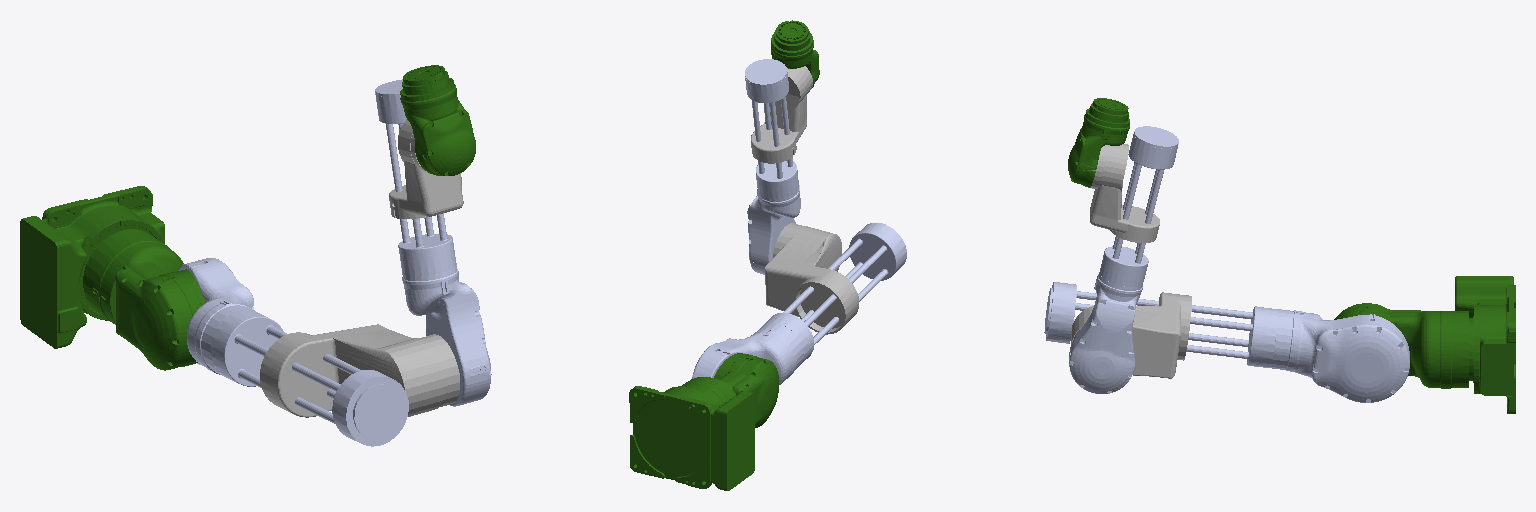
URDF robot description (robot_siad7n.SLDASM):
<?xml version="1.0" encoding="utf-8"?>
<!-- This URDF was automatically created by SolidWorks to URDF Exporter! Originally created by [author] ([email redacted]) 
     Commit Version: 1.6.0-1-g15f4949  Build Version: 1.6.7594.29634
     For more information, please see http://wiki.ros.org/sw_urdf_exporter -->
<robot
  name="robot_siad7n.SLDASM">
  <link
    name="base_link">
    <inertial>
      <origin
        xyz="-0.0532705876571574 -0.0767974979156272 -0.000142781208650451"
        rpy="0 0 0" />
      <mass
        value="9.56045935310843" />
      <inertia
        ixx="0.0622135700609236"
        ixy="-0.0105783354821859"
        ixz="-0.000141321537993399"
        iyy="0.136512878662147"
        iyz="-7.32310879539787E-05"
        izz="0.106984452980825" />
    </inertial>
    <visual>
      <origin
        xyz="0 0 0"
        rpy="0 0 0" />
      <geometry>
        <mesh
          filename="package://robot_siad7n.SLDASM/meshes/base_link.STL" />
      </geometry>
      <material
        name="">
        <color
          rgba="0.23921568627451 0.474509803921569 0.133333333333333 1" />
      </material>
    </visual>
    <collision>
      <origin
        xyz="0 0 0"
        rpy="0 0 0" />
      <geometry>
        <mesh
          filename="package://robot_siad7n.SLDASM/meshes/base_link.STL" />
      </geometry>
    </collision>
  </link>
  <link
    name="link_1">
    <inertial>
      <origin
        xyz="1.00339689311431E-06 0.189106618590632 -0.0156119228423456"
        rpy="0 0 0" />
      <mass
        value="11.7569497238069" />
      <inertia
        ixx="0.183154145362816"
        ixy="-1.40444592144142E-06"
        ixz="5.87212003021285E-07"
        iyy="0.0617033487068192"
        iyz="0.0136703017101072"
        izz="0.186679492606411" />
    </inertial>
    <visual>
      <origin
        xyz="0 0 0"
        rpy="0 0 0" />
      <geometry>
        <mesh
          filename="package://robot_siad7n.SLDASM/meshes/link_1.STL" />
      </geometry>
      <material
        name="">
        <color
          rgba="0.23921568627451 0.474509803921569 0.133333333333333 1" />
      </material>
    </visual>
    <collision>
      <origin
        xyz="0 0 0"
        rpy="0 0 0" />
      <geometry>
        <mesh
          filename="package://robot_siad7n.SLDASM/meshes/link_1.STL" />
      </geometry>
    </collision>
  </link>
  <joint
    name="joint_1"
    type="revolute">
    <origin
      xyz="0 -0.1265 0"
      rpy="0 -1.55961247963961 3.14159265358979" />
    <parent
      link="base_link" />
    <child
      link="link_1" />
    <axis
      xyz="0 1 0" />
    <limit
      lower="-3.14"
      upper="3.14"
      effort="10"
      velocity="100" />
  </joint>
  <link
    name="link_2">
    <inertial>
      <origin
        xyz="1.05015833037764E-05 0.272681758184058 0.0295584106615145"
        rpy="0 0 0" />
      <mass
        value="10.055392529235" />
      <inertia
        ixx="0.338020283341965"
        ixy="-1.29862360447246E-05"
        ixz="2.90379787297602E-06"
        iyy="0.0467294326094914"
        iyz="0.0229500781656004"
        izz="0.339754126520426" />
    </inertial>
    <visual>
      <origin
        xyz="0 0 0"
        rpy="0 0 0" />
      <geometry>
        <mesh
          filename="package://robot_siad7n.SLDASM/meshes/link_2.STL" />
      </geometry>
      <material
        name="">
        <color
          rgba="0.792156862745098 0.819607843137255 0.933333333333333 1" />
      </material>
    </visual>
    <collision>
      <origin
        xyz="0 0 0"
        rpy="0 0 0" />
      <geometry>
        <mesh
          filename="package://robot_siad7n.SLDASM/meshes/link_2.STL" />
      </geometry>
    </collision>
  </link>
  <joint
    name="joint_2"
    type="revolute">
    <origin
      xyz="0 0.298 0"
      rpy="0 0 -0.132981041403309" />
    <parent
      link="link_1" />
    <child
      link="link_2" />
    <axis
      xyz="0 0 1" />
    <limit
      lower="-1.57"
      upper="1.57"
      effort="0"
      velocity="0" />
  </joint>
  <link
    name="link_3">
    <inertial>
      <origin
        xyz="-0.120604561469353 0.178610106906279 0.0405760223491559"
        rpy="0 0 0" />
      <mass
        value="8.43890943742212" />
      <inertia
        ixx="0.117451143264787"
        ixy="-1.1110922731386E-06"
        ixz="4.99538724013843E-06"
        iyy="0.0700119155289213"
        iyz="0.0360892228503589"
        izz="0.0817537348047177" />
    </inertial>
    <visual>
      <origin
        xyz="0 0 0"
        rpy="0 0 0" />
      <geometry>
        <mesh
          filename="package://robot_siad7n.SLDASM/meshes/link_3.STL" />
      </geometry>
      <material
        name="">
        <color
          rgba="0.749019607843137 0.749019607843137 0.749019607843137 1" />
      </material>
    </visual>
    <collision>
      <origin
        xyz="0 0 0"
        rpy="0 0 0" />
      <geometry>
        <mesh
          filename="package://robot_siad7n.SLDASM/meshes/link_3.STL" />
      </geometry>
    </collision>
  </link>
  <joint
    name="joint_3"
    type="prismatic">
    <origin
      xyz="-0.11689 0.47879 0.17473"
      rpy="-3.1416 -0.021604 3.1416" />
    <parent
      link="link_2" />
    <child
      link="link_3" />
    <axis
      xyz="0 1 0" />
    <limit
      lower="-0.2"
      upper="0.23"
      effort="0"
      velocity="0" />
  </joint>
  <link
    name="link_4">
    <inertial>
      <origin
        xyz="-7.08329970677823E-07 0.205610197608899 -0.113259627344141"
        rpy="0 0 0" />
      <mass
        value="6.45548611574415" />
      <inertia
        ixx="0.110031238118223"
        ixy="-8.23512302258224E-06"
        ixz="-1.43802607517366E-06"
        iyy="0.0163209176358426"
        iyz="-0.00683093247106248"
        izz="0.111596161344142" />
    </inertial>
    <visual>
      <origin
        xyz="0 0 0"
        rpy="0 0 0" />
      <geometry>
        <mesh
          filename="package://robot_siad7n.SLDASM/meshes/link_4.STL" />
      </geometry>
      <material
        name="">
        <color
          rgba="0.792156862745098 0.819607843137255 0.933333333333333 1" />
      </material>
    </visual>
    <collision>
      <origin
        xyz="0 0 0"
        rpy="0 0 0" />
      <geometry>
        <mesh
          filename="package://robot_siad7n.SLDASM/meshes/link_4.STL" />
      </geometry>
    </collision>
  </link>
  <joint
    name="joint_4"
    type="revolute">
    <origin
      xyz="-0.120614085216854 0.267508091902945 -0.000564211969683343"
      rpy="0 0 1.66485701129501" />
    <parent
      link="link_3" />
    <child
      link="link_4" />
    <axis
      xyz="0 0 1" />
    <limit
      lower="1.57"
      upper="-1.57"
      effort="0"
      velocity="0" />
  </joint>
  <link
    name="link_5">
    <inertial>
      <origin
        xyz="-0.0912836187748228 0.104297482164213 0.043685896320808"
        rpy="0 0 0" />
      <mass
        value="2.87980927253547" />
      <inertia
        ixx="0.0218028431685682"
        ixy="2.53211262281109E-05"
        ixz="-2.18652264926969E-05"
        iyy="0.0107070307442494"
        iyz="0.00640549139124683"
        izz="0.0181147775585784" />
    </inertial>
    <visual>
      <origin
        xyz="0 0 0"
        rpy="0 0 0" />
      <geometry>
        <mesh
          filename="package://robot_siad7n.SLDASM/meshes/link_5.STL" />
      </geometry>
      <material
        name="">
        <color
          rgba="0.749019607843137 0.749019607843137 0.749019607843137 1" />
      </material>
    </visual>
    <collision>
      <origin
        xyz="0 0 0"
        rpy="0 0 0" />
      <geometry>
        <mesh
          filename="package://robot_siad7n.SLDASM/meshes/link_5.STL" />
      </geometry>
    </collision>
  </link>
  <joint
    name="joint_5"
    type="prismatic">
    <origin
      xyz="0.12763978537467 0.392714653958612 0"
      rpy="-0.00652708354145795 -1.57079631189374 0.00634382819781065" />
    <parent
      link="link_4" />
    <child
      link="link_5" />
    <axis
      xyz="0 1 0" />
    <limit
      lower="-0.08"
      upper="0.17"
      effort="0"
      velocity="0" />
  </joint>
  <link
    name="link_6">
    <inertial>
      <origin
        xyz="9.83105750956836E-06 0.0698495416294473 0.034858271451973"
        rpy="0 0 0" />
      <mass
        value="2.01842041563984" />
      <inertia
        ixx="0.00976013897985287"
        ixy="-1.904515875746E-06"
        ixz="2.82611022461531E-07"
        iyy="0.0042999895341376"
        iyz="0.00215922122800822"
        izz="0.00977941221827013" />
    </inertial>
    <visual>
      <origin
        xyz="0 0 0"
        rpy="0 0 0" />
      <geometry>
        <mesh
          filename="package://robot_siad7n.SLDASM/meshes/link_6.STL" />
      </geometry>
      <material
        name="">
        <color
          rgba="0.23921568627451 0.474509803921569 0.133333333333333 1" />
      </material>
    </visual>
    <collision>
      <origin
        xyz="0 0 0"
        rpy="0 0 0" />
      <geometry>
        <mesh
          filename="package://robot_siad7n.SLDASM/meshes/link_6.STL" />
      </geometry>
    </collision>
  </link>
  <joint
    name="joint_6"
    type="revolute">
    <origin
      xyz="-0.091413 0.16784 0"
      rpy="-3.1416 0 3.0511" />
    <parent
      link="link_5" />
    <child
      link="link_6" />
    <axis
      xyz="0 0 1" />
    <limit
      lower="-1.57"
      upper="1.57"
      effort="0"
      velocity="0" />
  </joint>
  <link
    name="EF">
    <inertial>
      <origin
        xyz="-0.00019052 0.0033294 -2.4749E-05"
        rpy="0 0 0" />
      <mass
        value="0.095976" />
      <inertia
        ixx="5.9835E-05"
        ixy="2.0224E-08"
        ixz="-5.6821E-07"
        iyy="0.0001152"
        iyz="1.7708E-09"
        izz="5.8484E-05" />
    </inertial>
    <visual>
      <origin
        xyz="0 0 0"
        rpy="0 0 0" />
      <geometry>
        <mesh
          filename="package://robot_siad7n.SLDASM/meshes/EF.STL" />
      </geometry>
      <material
        name="">
        <color
          rgba="0.23922 0.47451 0.13333 1" />
      </material>
    </visual>
    <collision>
      <origin
        xyz="0 0 0"
        rpy="0 0 0" />
      <geometry>
        <mesh
          filename="package://robot_siad7n.SLDASM/meshes/EF.STL" />
      </geometry>
    </collision>
  </link>
  <joint
    name="joint_7"
    type="revolute">
    <origin
      xyz="0 0.16749 0.01686"
      rpy="0 -0.88919 0" />
    <parent
      link="link_6" />
    <child
      link="EF" />
    <axis
      xyz="0 1 0" />
    <limit
      lower="-3.14"
      upper="3.14"
      effort="0"
      velocity="0" />
  </joint>
</robot>

--- Facts derived from the render (not from the file) ---
The picture shows the robot from 3 angles, left to right: view 1: azimuth 30°, elevation 25°; view 2: azimuth 150°, elevation 25°; view 3: azimuth 270°, elevation 25°; orthographic projection.
Model robot_siad7n.SLDASM with 8 links and 7 joints (5 revolute, 2 prismatic), rooted at base_link, posed all joints at 0.
Visible links, largest first — view 1: link_2, base_link, link_3, link_1, link_4, link_6, link_5, EF; view 2: base_link, link_2, link_3, link_4, link_1, link_5, link_6, EF; view 3: link_2, link_4, base_link, link_1, link_3, link_5, link_6.
Boxes of the visible links, x1,y1,x2,y2 form: link_2: (178, 258, 408, 446); base_link: (20, 186, 164, 348); link_3: (260, 324, 459, 417); link_1: (83, 229, 205, 370); link_4: (375, 79, 491, 406); link_6: (400, 71, 475, 175); link_5: (389, 119, 463, 218); EF: (403, 65, 445, 85); base_link: (629, 386, 754, 490); link_2: (692, 223, 906, 384); link_3: (765, 223, 858, 334); link_4: (745, 59, 800, 274); link_1: (682, 353, 778, 427); link_5: (751, 66, 812, 163); link_6: (771, 29, 819, 87); EF: (776, 20, 808, 43); link_2: (1044, 282, 1409, 402); link_4: (1069, 126, 1178, 393); base_link: (1455, 276, 1515, 413); link_1: (1334, 303, 1472, 388); link_3: (1071, 292, 1191, 378); link_5: (1090, 144, 1159, 242); link_6: (1068, 103, 1129, 187).
Size in the robot's own frame: 0.5603 by 1.31 by 1.01 metres.
Meshes: 8 distinct files referenced, 8 mesh visuals loaded (8 binary STL).